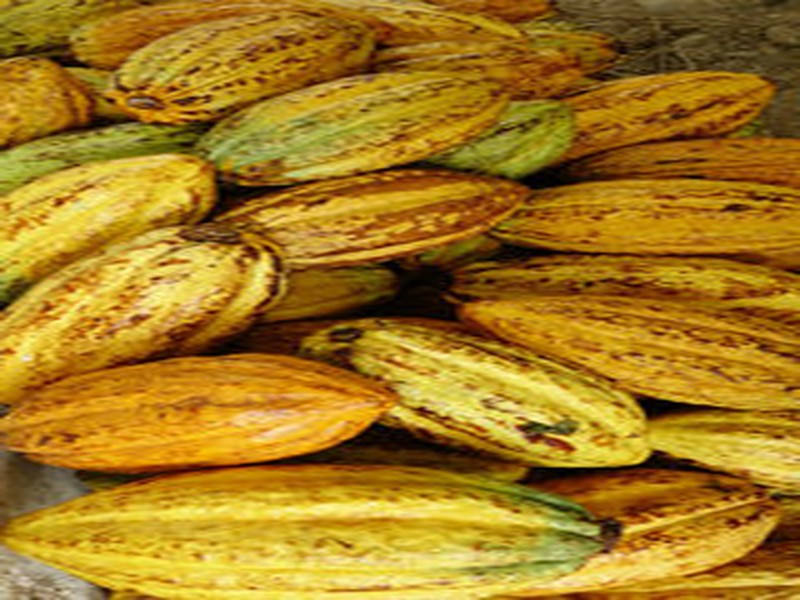Cacaopod: (2, 359, 403, 468)
